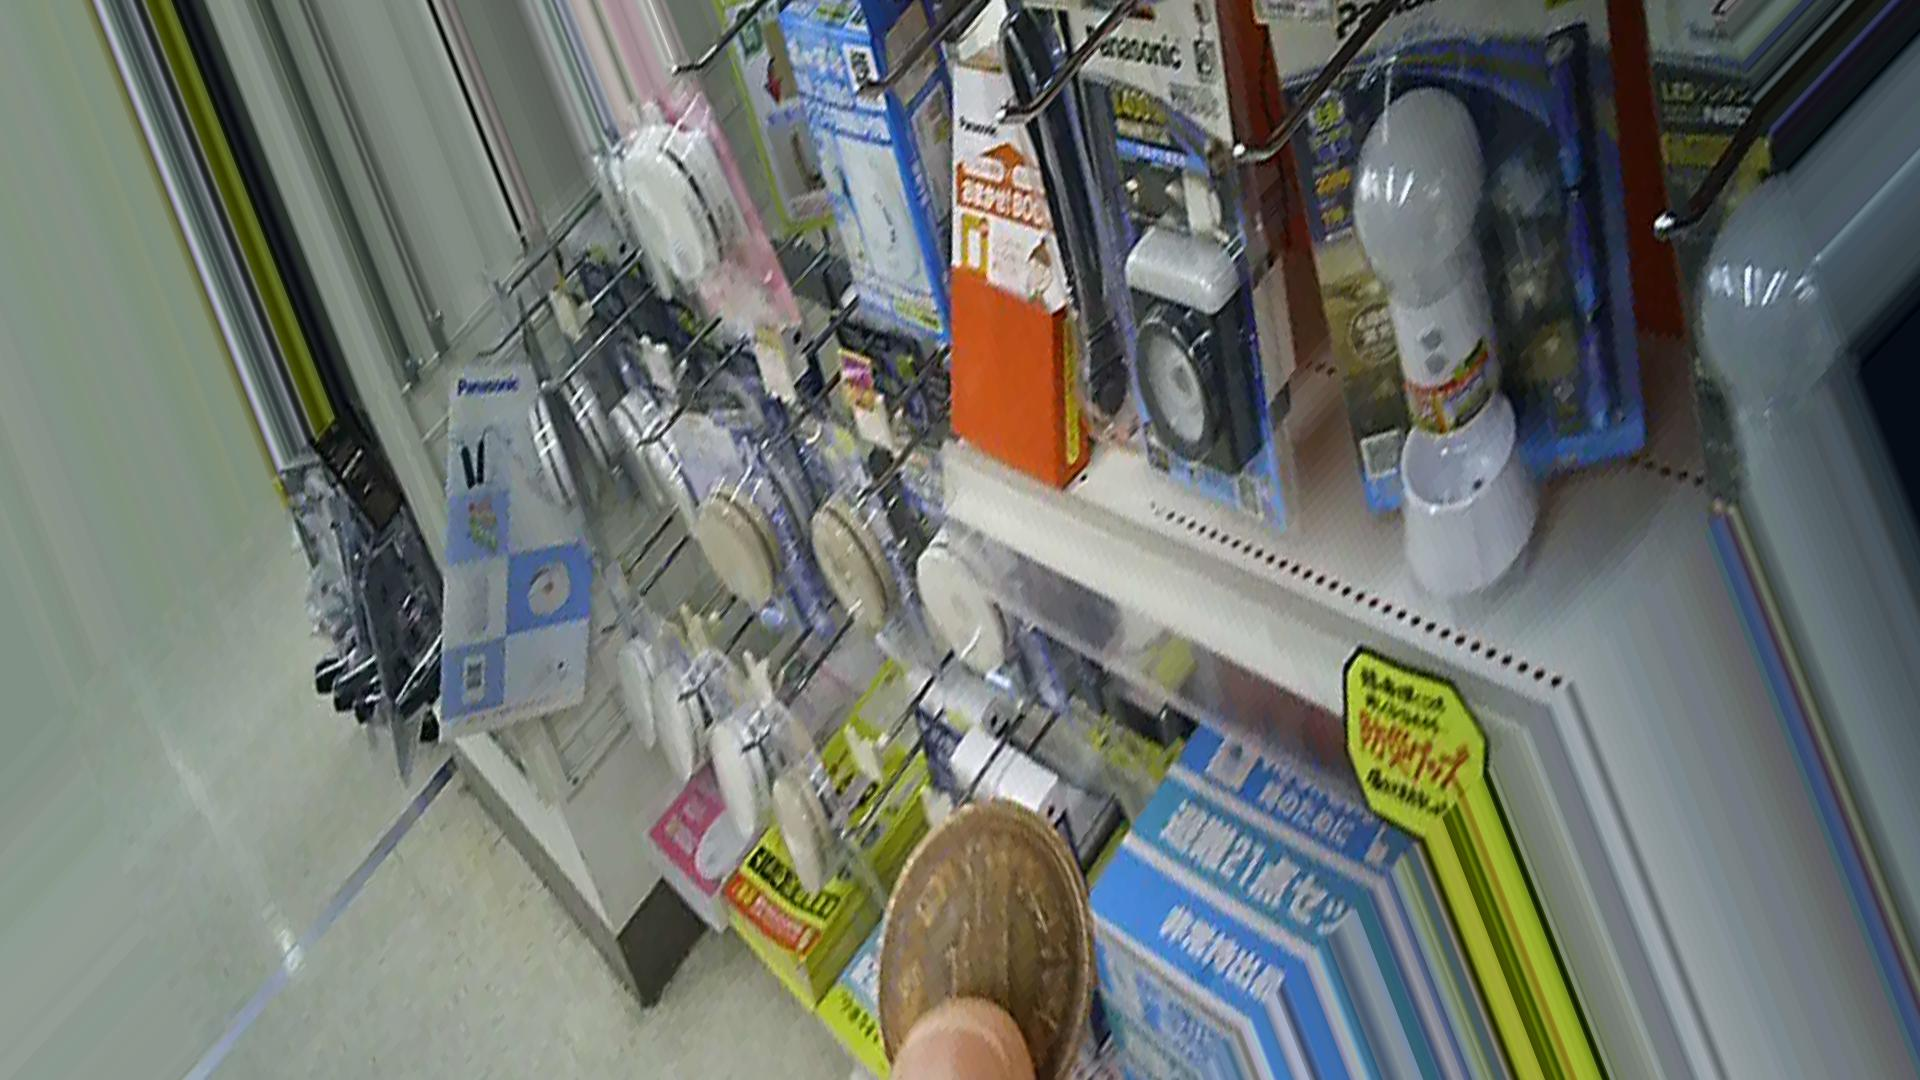10 Yen: (851, 804, 1112, 1079)
